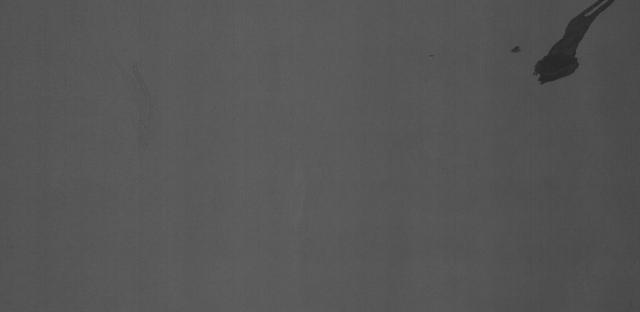oil_spot: (502, 0, 625, 88)
